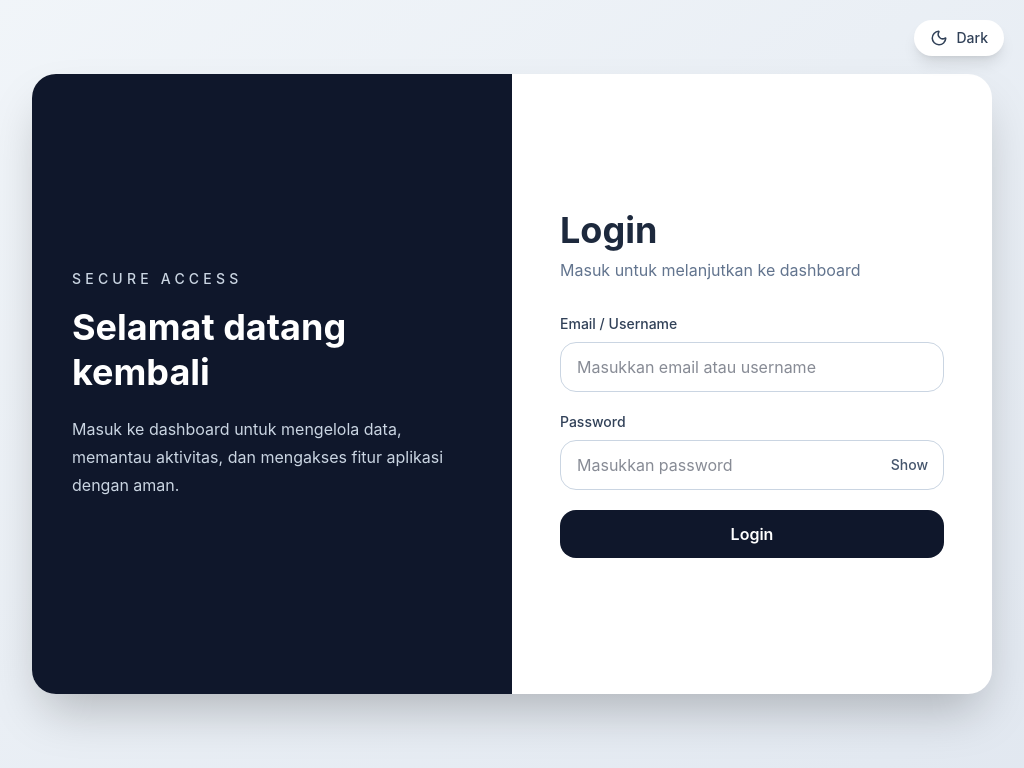
Test: Login Page › menampilkan error jika form kosong
Click the button "Login".
click(752, 534)  # box x1=560 y1=510 x2=944 y2=558
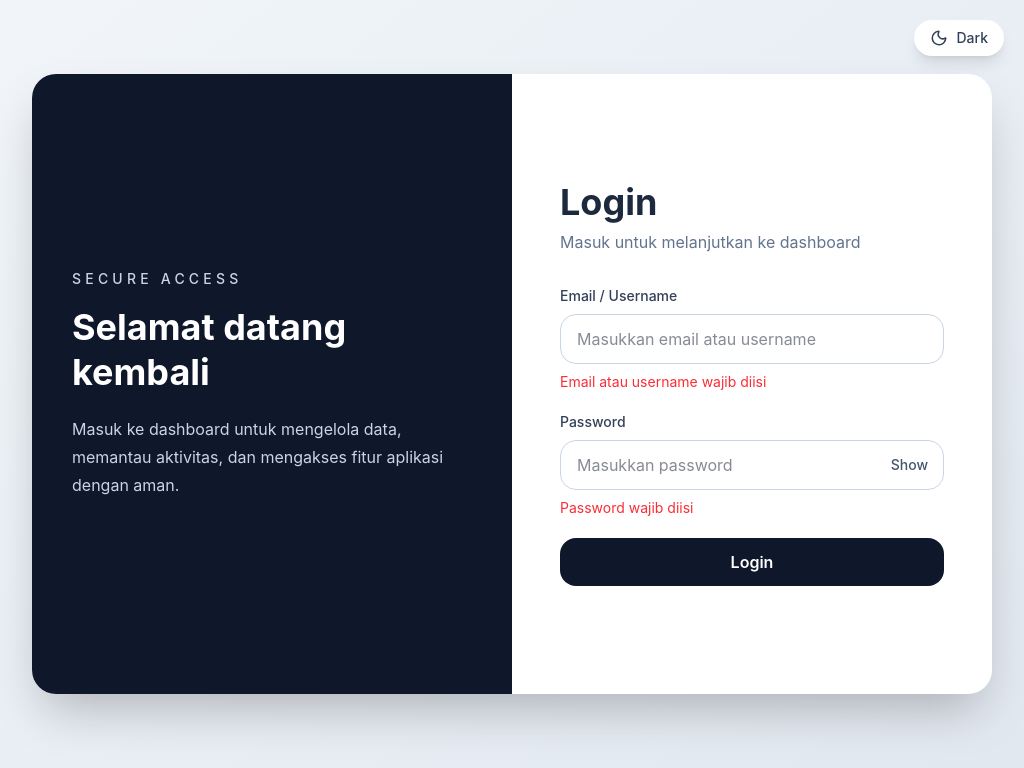
Check: the text "Email atau username wajib diisi" is shown, box x1=560 y1=373 x2=766 y2=390
